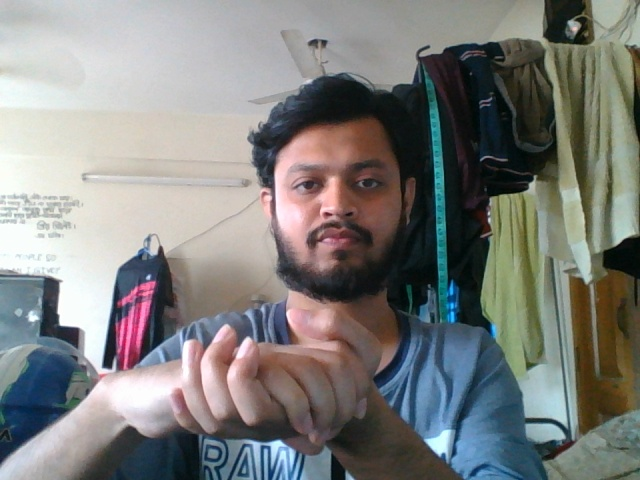bondhu: (61, 300, 462, 480)
